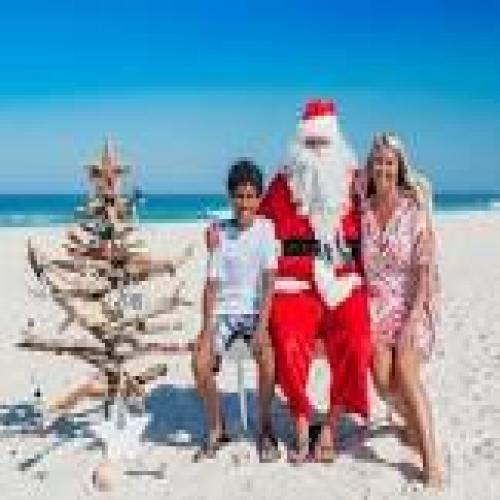Santa: (204, 91, 432, 466)
